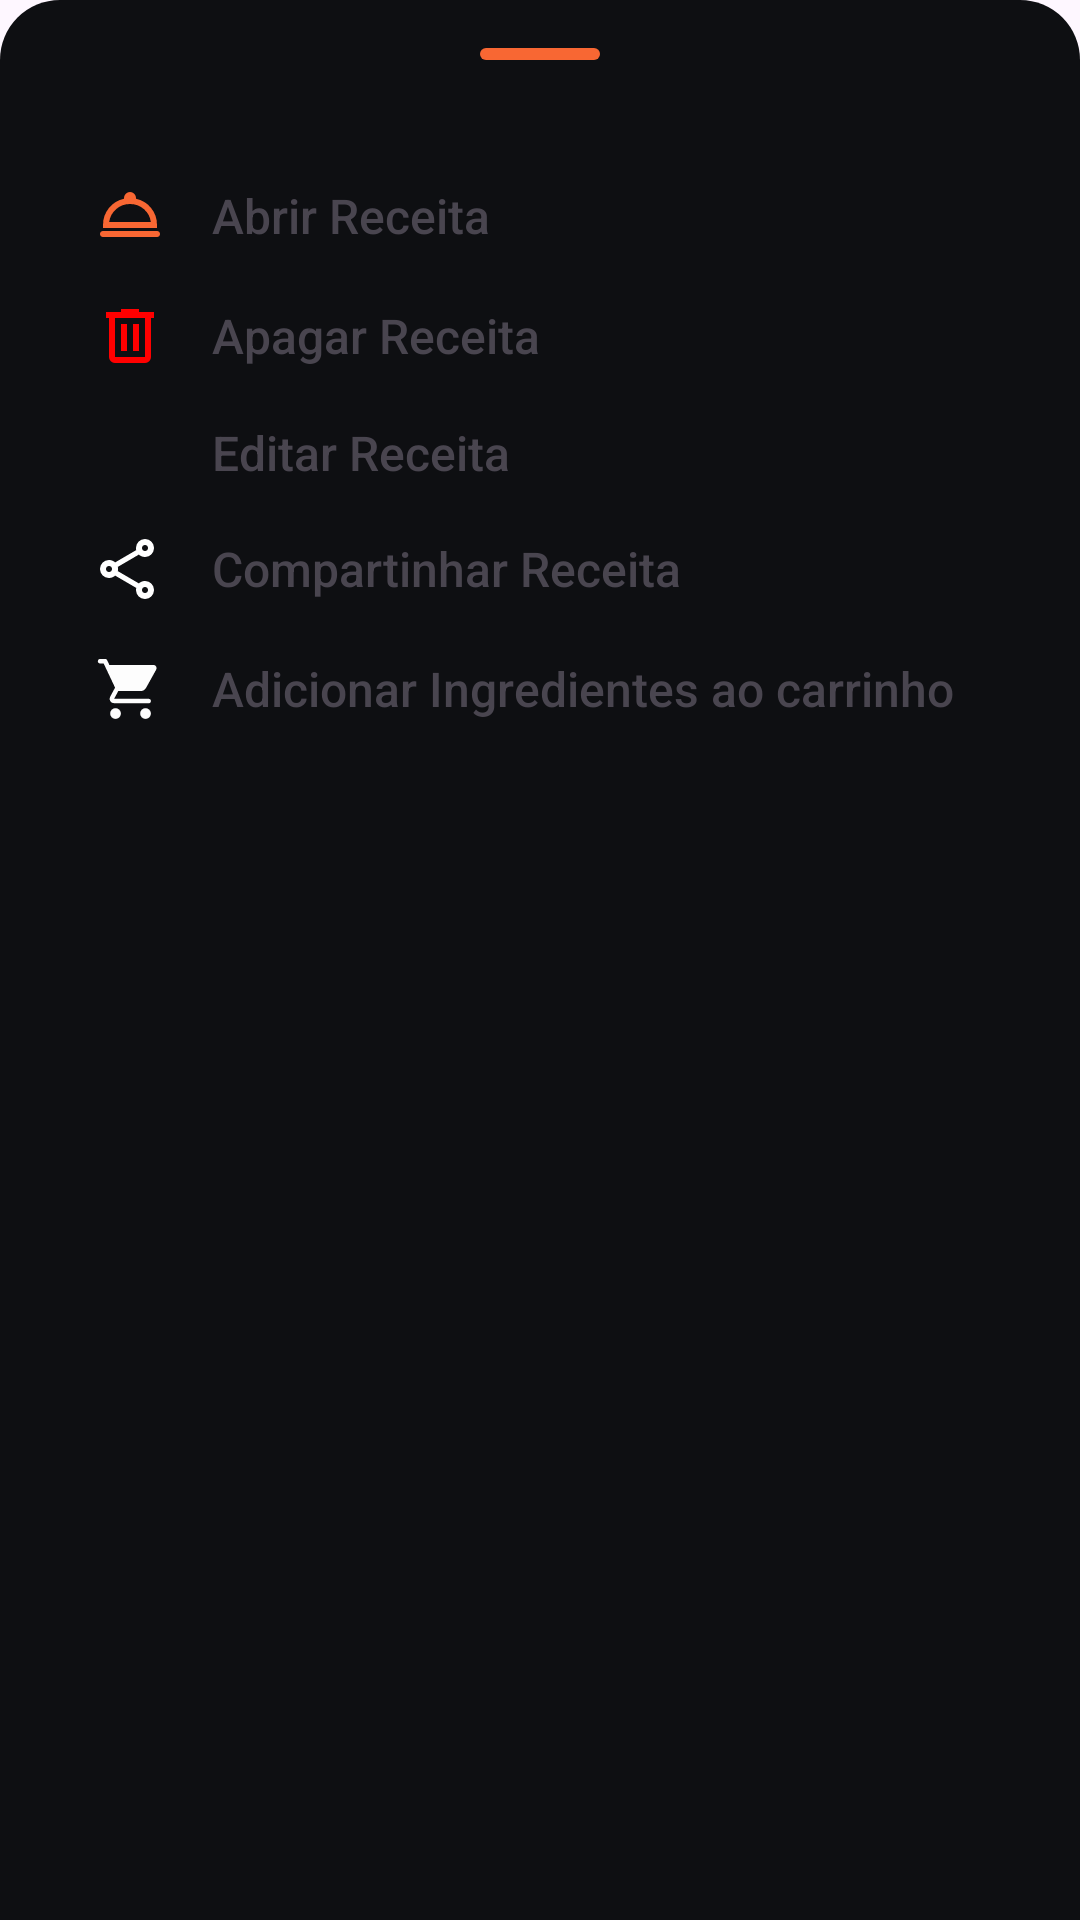

Icons on this 1080w x 1920h Android screen, each with its box as box(x1, y1, x2, y2):
delete: box(106, 309, 154, 363)
room service: box(100, 192, 160, 237)
share: box(100, 539, 154, 599)
shopping cart: box(97, 659, 157, 719)
